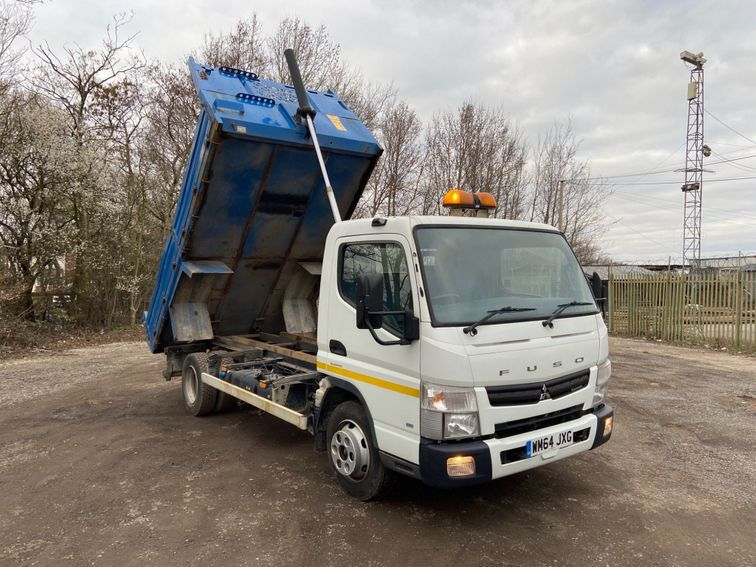Semi: (141, 47, 612, 498)
